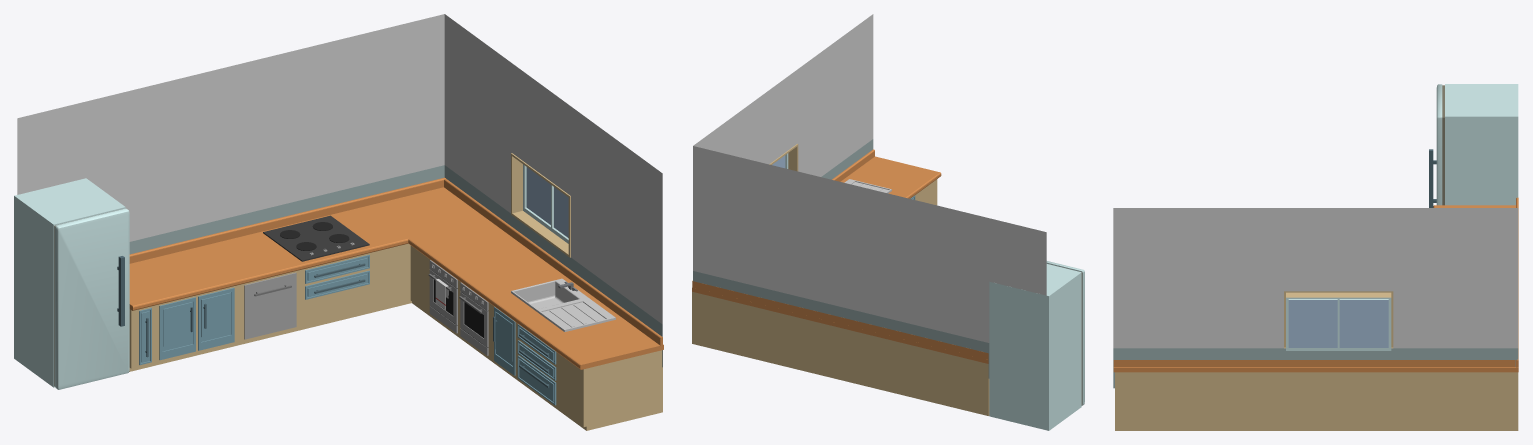
File: Kitchen_Counter.fbx
The picture shows the model from 3 angles, left to right: view 1: azimuth 30°, elevation 25°; view 2: azimuth 150°, elevation 25°; view 3: azimuth 270°, elevation 25°; orthographic projection. The views are drawn at different scales.
Parts seen in each view (by area): view 1: Wall, Counter Top, Cube.002, Counter, Cube, Sink, Cube.006, Cube.054, Cube.028, Cube.018, Cube.017, Cube.038 (+6 smaller); view 2: Wall, Counter, Cube.002, Counter Top, Cube; view 3: Wall, Counter, Cube.002, Cube.054, Counter Top.
Boxes of the visible parts, bbox=[...] form: Wall: bbox=[17, 14, 662, 367]; Counter Top: bbox=[129, 187, 663, 369]; Cube.002: bbox=[14, 178, 129, 389]; Counter: bbox=[129, 243, 662, 430]; Cube: bbox=[129, 177, 445, 263]; Sink: bbox=[511, 278, 615, 331]; Cube.006: bbox=[244, 272, 296, 339]; Cube.054: bbox=[444, 179, 662, 345]; Cube.028: bbox=[263, 215, 369, 261]; Cube.018: bbox=[198, 287, 234, 350]; Cube.017: bbox=[159, 297, 195, 360]; Cube.038: bbox=[460, 282, 488, 355]; Wall: bbox=[693, 14, 1046, 378]; Counter: bbox=[692, 179, 989, 415]; Cube.002: bbox=[989, 261, 1084, 430]; Counter Top: bbox=[692, 156, 988, 363]; Cube: bbox=[692, 280, 988, 359]; Wall: bbox=[1113, 208, 1518, 388]; Counter: bbox=[1115, 372, 1518, 430]; Cube.002: bbox=[1436, 84, 1518, 205]; Cube.054: bbox=[1113, 360, 1515, 367]; Counter Top: bbox=[1113, 205, 1518, 372].
Bounding box in the file's own units: 3961 × 3380 × 2050.
